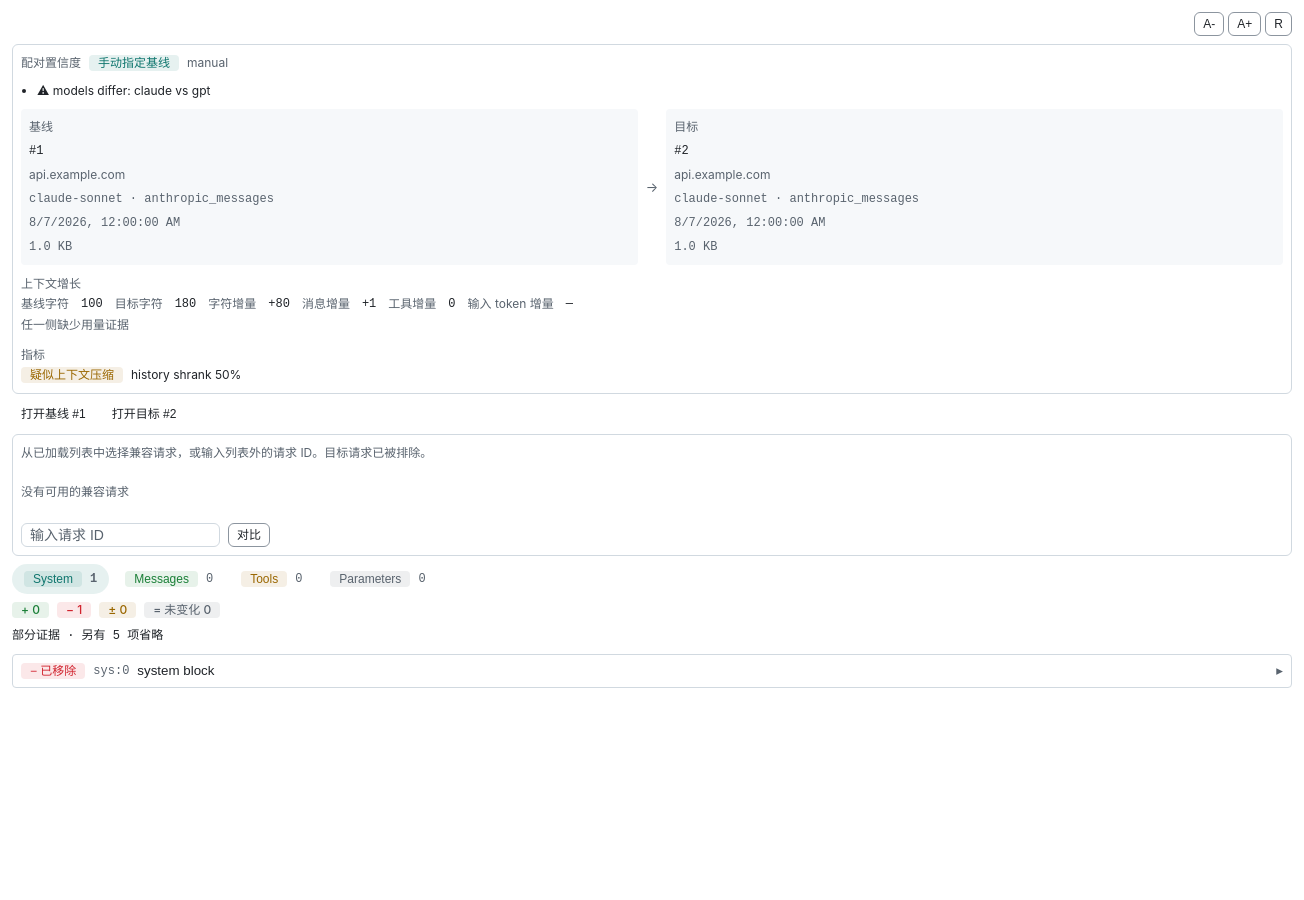
Test: RequestContextDiffPanel §7 › 渲染警告、部分证据、省略计数与截断原因
The image size is (1304, 900).
Click the button with class "context-change-row-head" at (53, 670), box [13,654,1291,686]
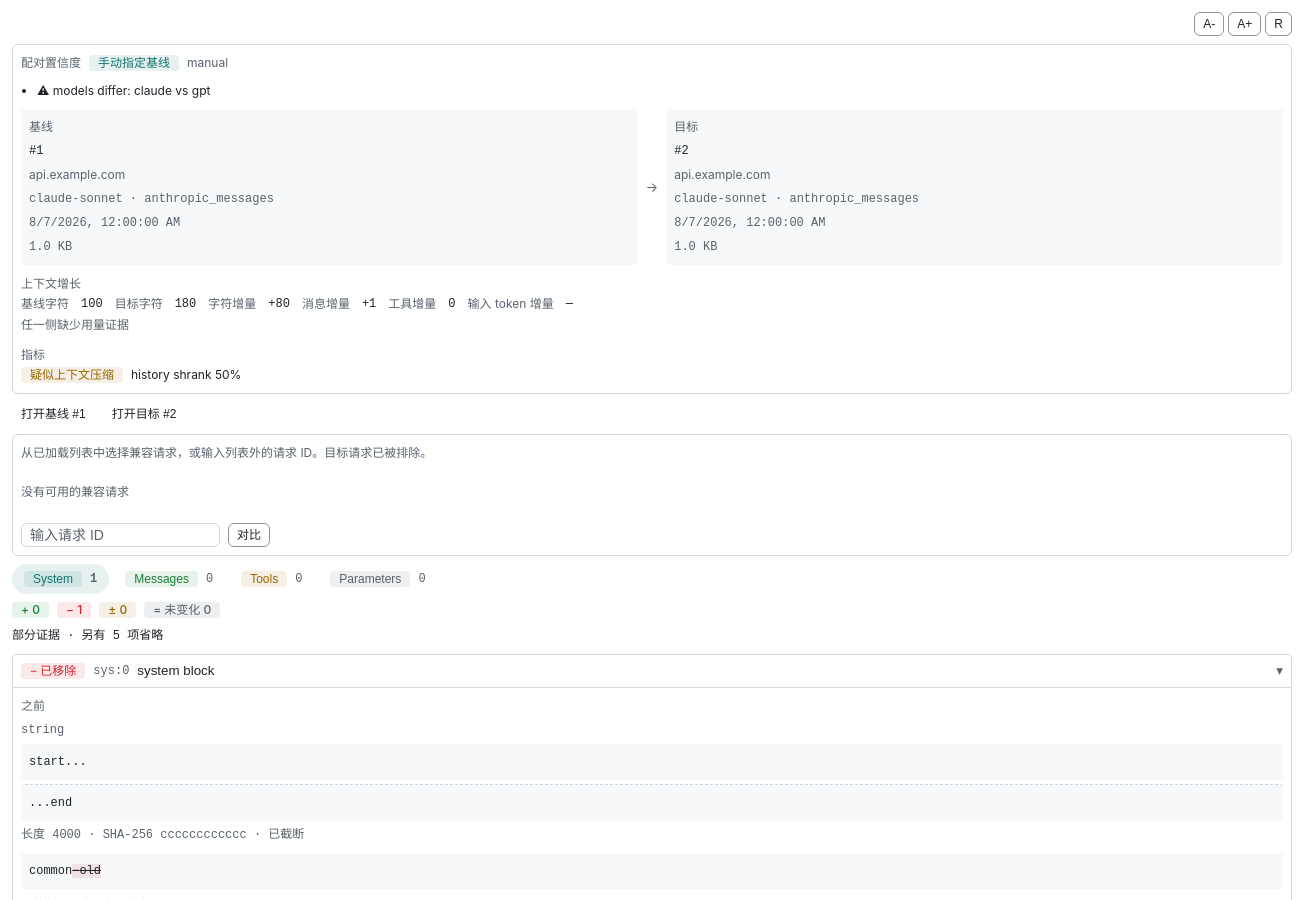
Expected: the text "System" is shown, [24,571,82,587]
Result: the text "start..." is shown at [21,744,1283,780]
Result: the text "...end" is shown at [21,784,1283,820]
